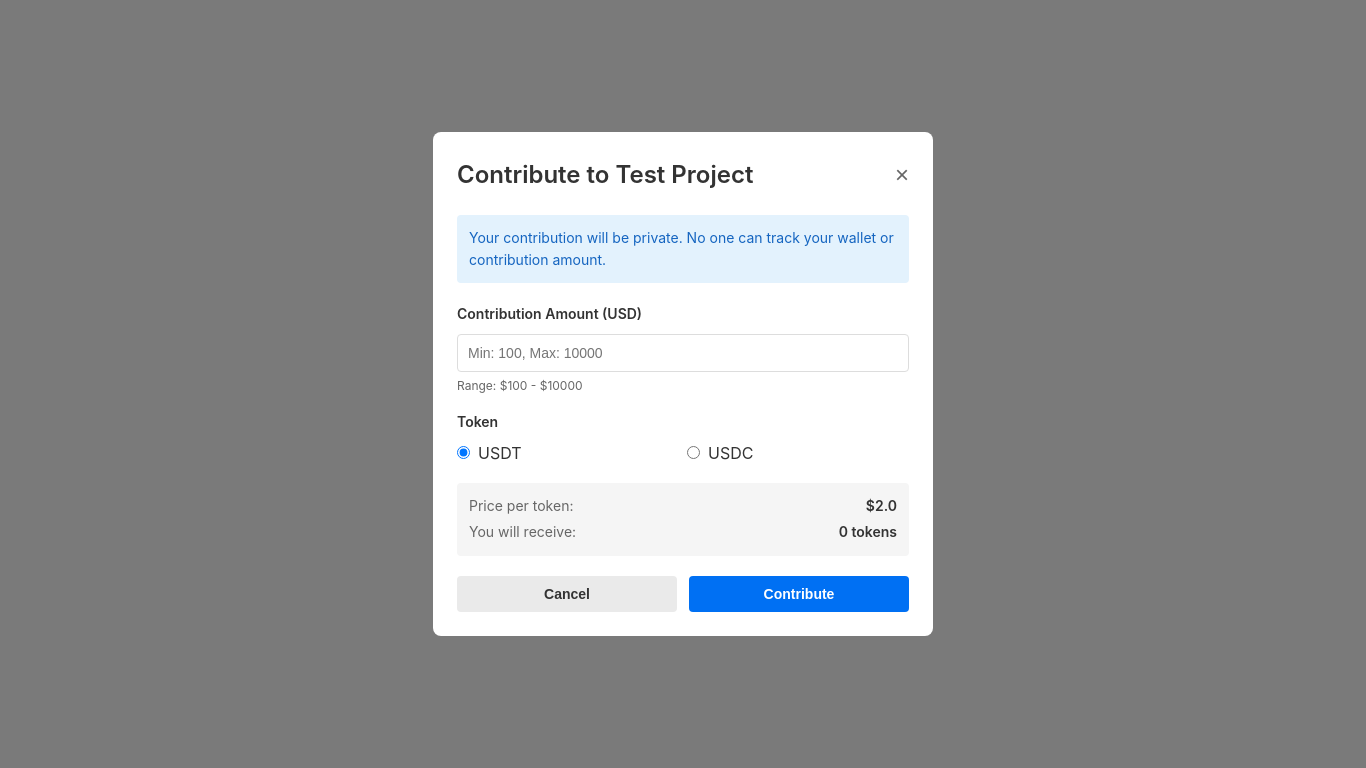
Scenario: LaunchpadContributeDialog › should show error for amount below minimum
Type "50" into the number field with placeholder "Min: 100, Max: 10000". click: [683, 353]
box: left=457, top=334, right=909, bottom=372
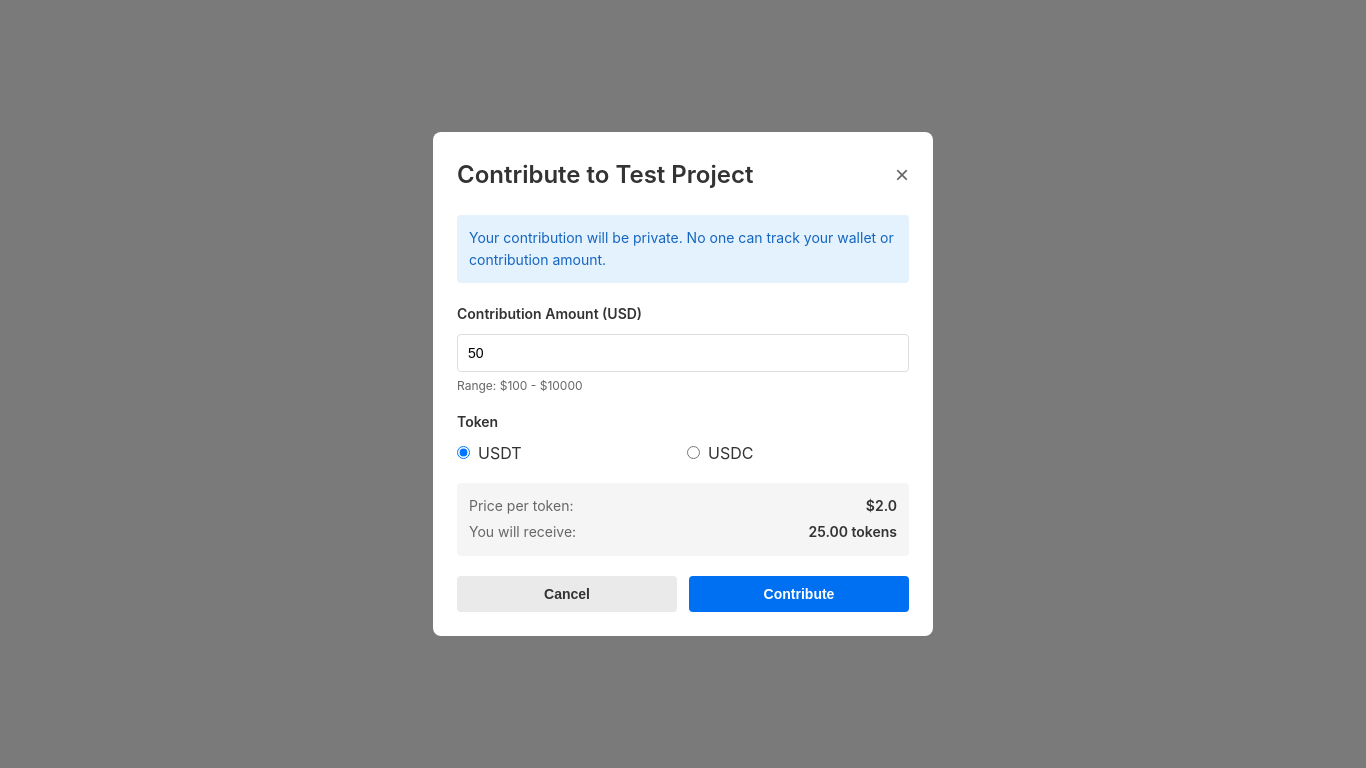
Click the button "Contribute". click: [799, 594]
box: left=689, top=576, right=909, bottom=612
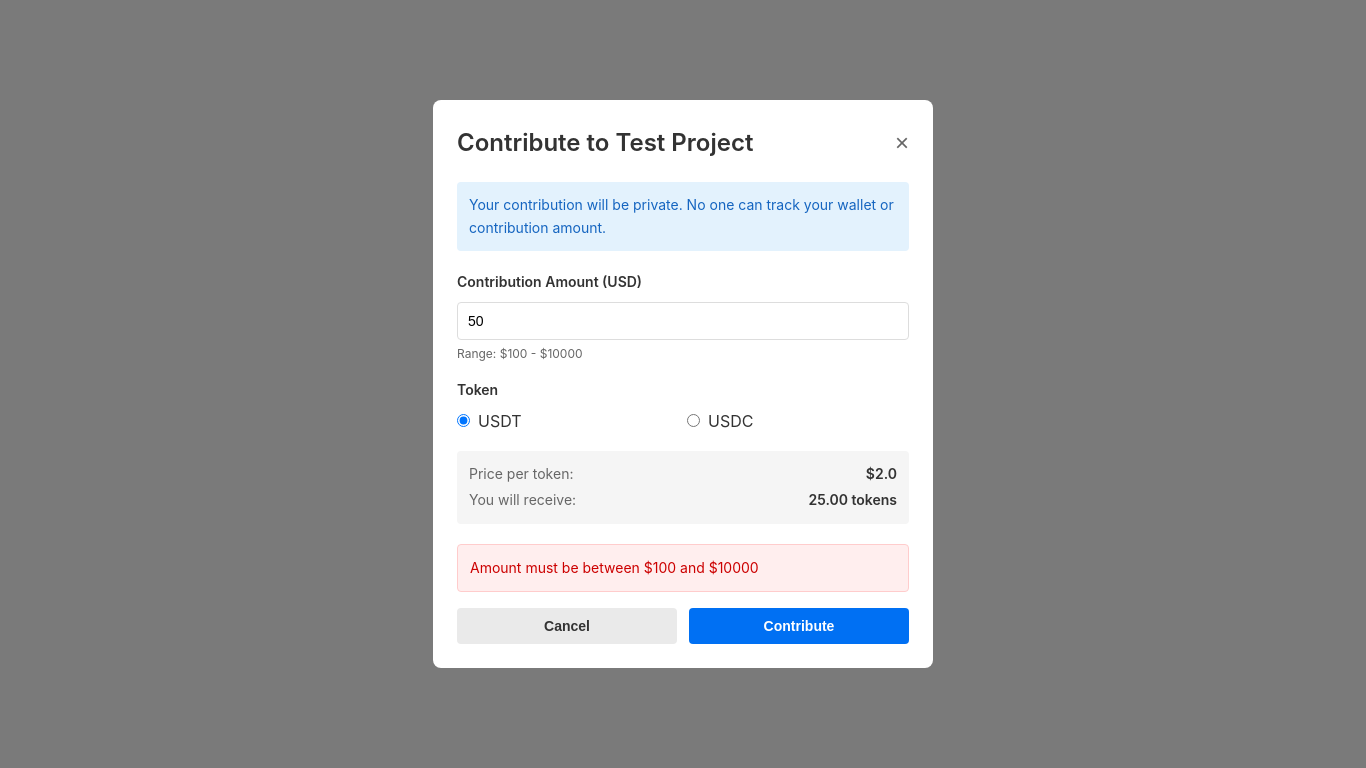
Result: the text "Amount must be between $100 and $10000" is shown at left=470, top=559, right=759, bottom=576
